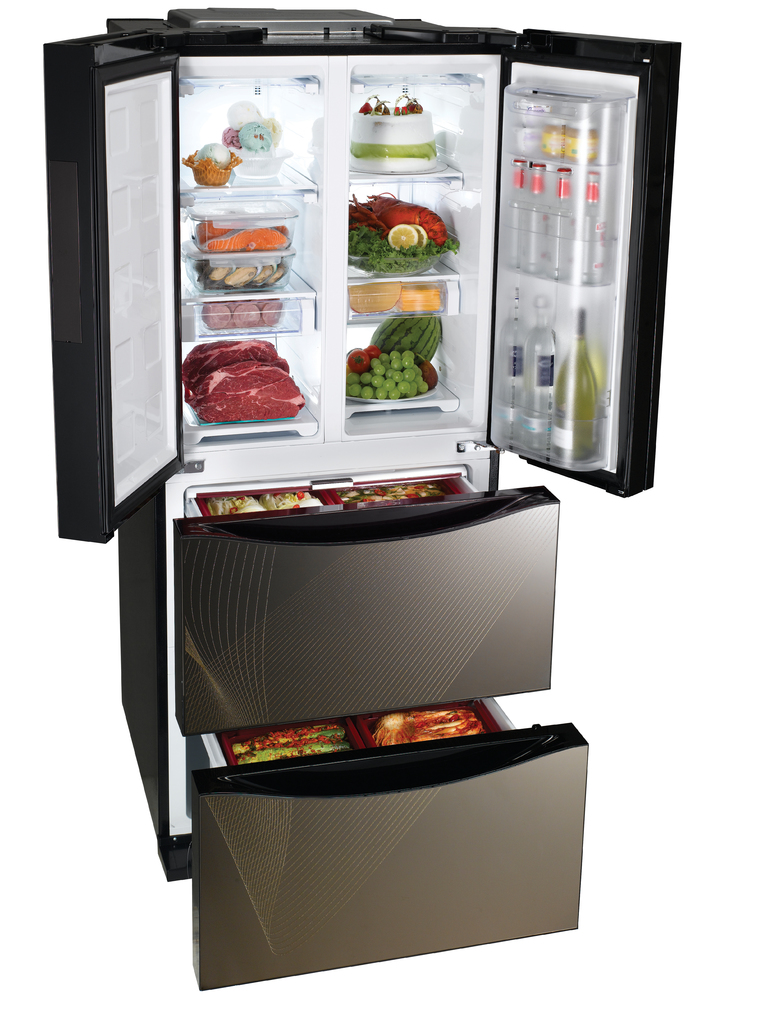refrigerator door: (197, 747, 578, 940), (174, 506, 557, 697), (505, 55, 655, 481), (71, 63, 170, 481)
